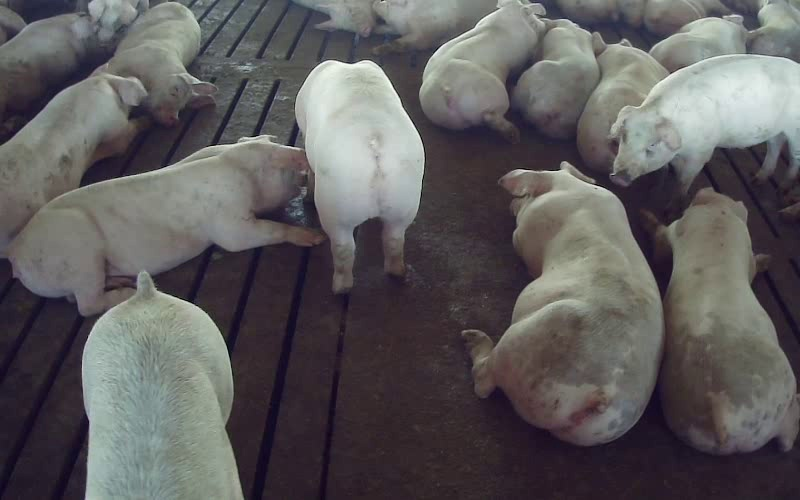pig: (462, 162, 663, 445), (8, 135, 323, 315), (642, 188, 799, 453), (82, 272, 241, 499), (295, 60, 424, 292), (0, 73, 146, 256), (610, 54, 799, 195), (419, 0, 544, 141), (98, 2, 216, 126), (577, 32, 668, 172), (511, 19, 599, 138), (0, 14, 93, 123), (649, 15, 747, 72), (747, 0, 799, 62)
